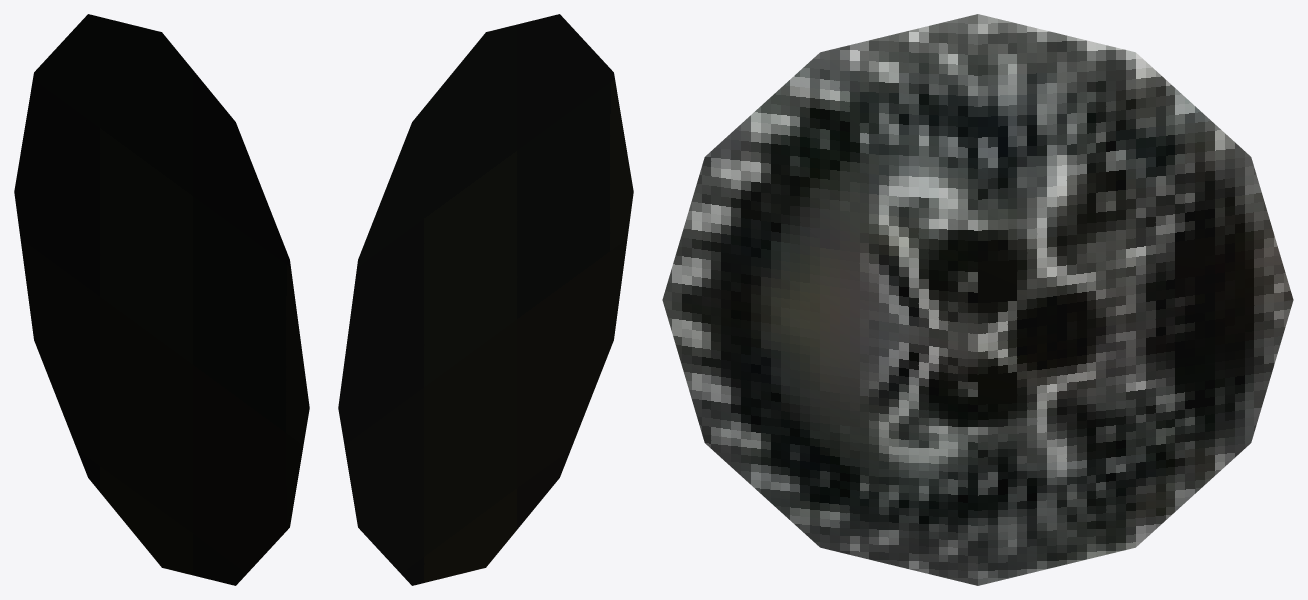
Rendered from Shield05.glb.
The picture shows the model from 3 angles, left to right: view 1: azimuth 30°, elevation 25°; view 2: azimuth 150°, elevation 25°; view 3: azimuth 270°, elevation 25°; orthographic projection. The views are drawn at different scales.
Parts seen in each view (by area): view 1: model_Shield05; view 2: model_Shield05; view 3: model_Shield05.
Boxes of the visible parts, x1,y1,x2,y2 form: model_Shield05: (14, 14, 309, 585); model_Shield05: (338, 14, 633, 585); model_Shield05: (662, 14, 1293, 585).
Size of the model in its own units: 0.1127 by 0.6787 by 0.6787.
Materials: 1 (1 with a texture image).
